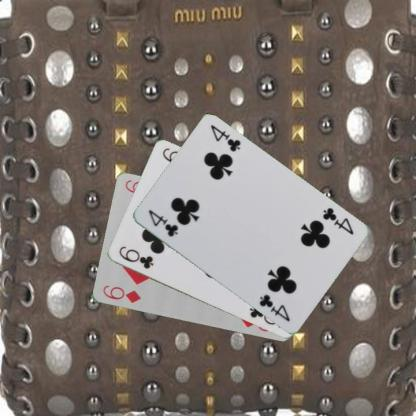4c: (320, 205, 354, 236), (146, 207, 179, 238)
6c: (116, 244, 154, 271)
6d: (100, 282, 142, 304)
